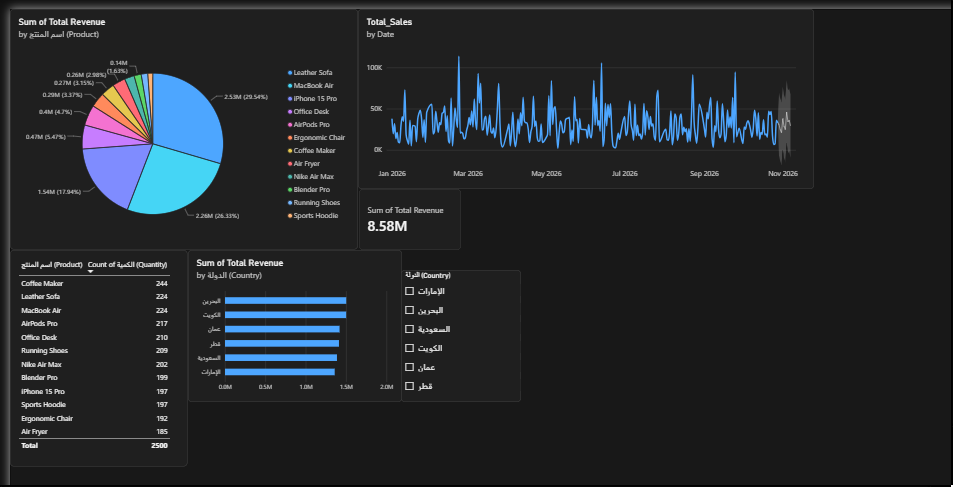

This screenshot's page, from the dashboard's own definition file:
{"tool":"powerbi","page":{"name":"Page 1","canvas":[1920,1080],"ordinal":0},"visuals":[{"type":"pieChart","fields":{"Category":["Sheet1.اسم المنتج (Product)"],"Y":["Sum(Sheet1.Total Revenue)"]},"box":[0,0,696.2,481.2],"z":0},{"type":"tableEx","fields":{"Values":["Sheet1.اسم المنتج (Product)","CountNonNull(Sheet1.الكمية (Quantity))"]},"box":[0,482,355,432.5],"z":2},{"type":"clusteredBarChart","fields":{"Category":["Sheet1.الدولة (Country)"],"Y":["Sum(Sheet1.Total Revenue)"]},"box":[356,482,428,304],"z":3},{"type":"cardVisual","fields":{"Data":["Sum(Sheet1.Total Revenue)"]},"box":[698,360,204,122],"z":5},{"type":"slicer","fields":{"Values":["Sheet1.الدولة (Country)"]},"box":[782,522,240,264],"z":6},{"type":"lineChart","fields":{"Category":["Dim_Calendar.Date"],"Y":["Sheet1.Total_Sales"]},"box":[696,0,912,360],"z":7}]}

Visuals, with their boxes on the page's 1920x1080 design canvas (x1, y1, x2, y2). These are canvas units, not pixel positions in the 953x487 screenshot, which may show the page scaled, cropped or inside an application window:
pieChart - Sheet1.اسم المنتج (Product) x Sum(Sheet1.Total Revenue): <region>0, 0, 696, 481</region>
tableEx - Sheet1.اسم المنتج (Product) x CountNonNull(Sheet1.الكمية (Quantity)): <region>0, 482, 355, 914</region>
clusteredBarChart - Sheet1.الدولة (Country) x Sum(Sheet1.Total Revenue): <region>356, 482, 784, 786</region>
cardVisual - Sum(Sheet1.Total Revenue): <region>698, 360, 902, 482</region>
slicer - Sheet1.الدولة (Country): <region>782, 522, 1022, 786</region>
lineChart - Dim_Calendar.Date x Sheet1.Total_Sales: <region>696, 0, 1608, 360</region>
